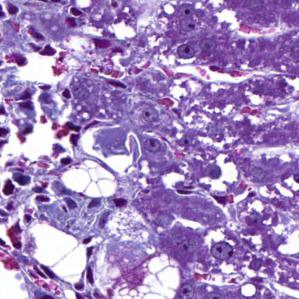ballooning: (27, 220, 91, 287), (104, 251, 183, 297), (60, 156, 118, 200)
